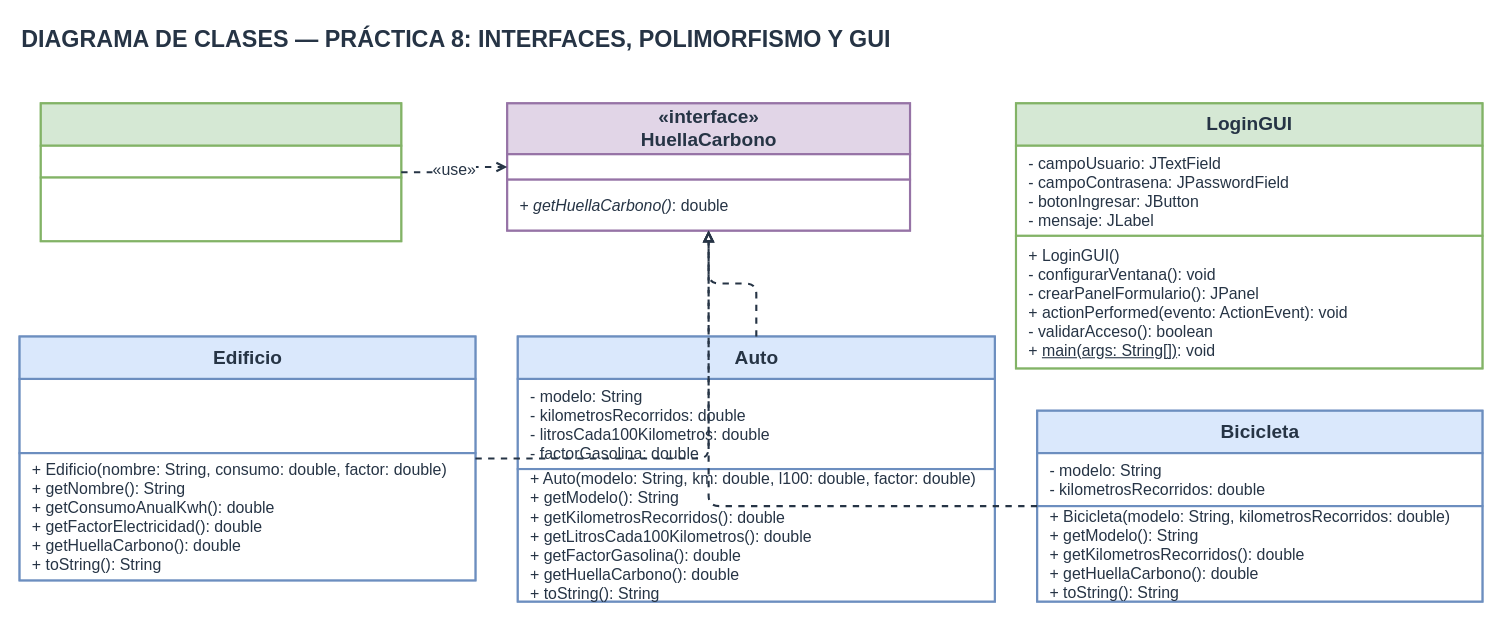
The diagram is 1501 pixels wide and 620 high, and some of its shapes have lost their labels. The shapes that lost their labels are listed below. From the top down, each one's centre as x and y in pixels, then its label:
(220,124): Main
(220,209): + Main() + main(args: String[]) : void
(247,415): - nombre: String - consumoAnualKwh: double - factorElectricidad: double
